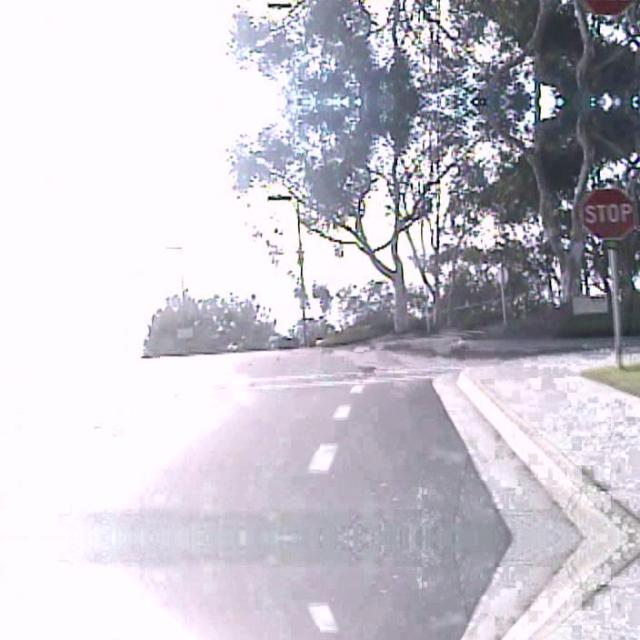stop: (580, 186, 636, 238), (580, 0, 636, 16)
